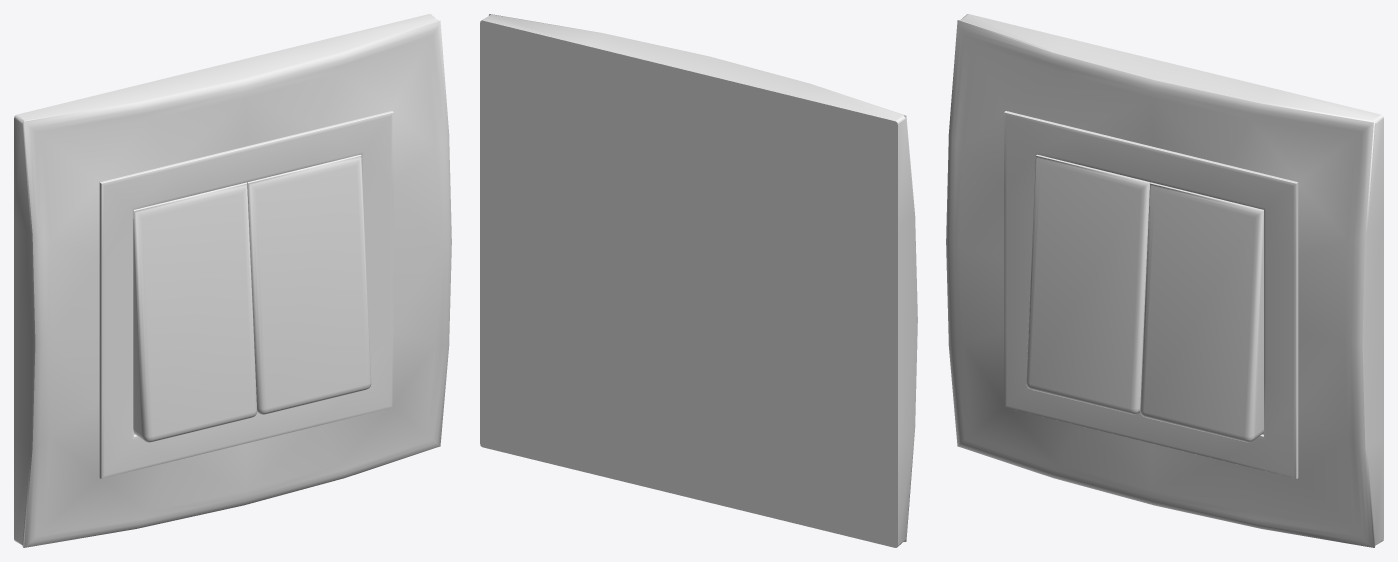
File: Switcher.fbx
The picture shows the model from 3 angles, left to right: view 1: azimuth 30°, elevation 25°; view 2: azimuth 150°, elevation 25°; view 3: azimuth 330°, elevation 25°; orthographic projection.
Parts seen in each view (by area): view 1: switcher; view 2: switcher; view 3: switcher.
Boxes of the visible parts, bbox=[...] form: switcher: bbox=[14, 14, 451, 547]; switcher: bbox=[480, 14, 917, 547]; switcher: bbox=[946, 14, 1383, 547].
Bounding box in the file's own units: 10.08 × 9.84 × 1.56.
1 material, 1 textured.
